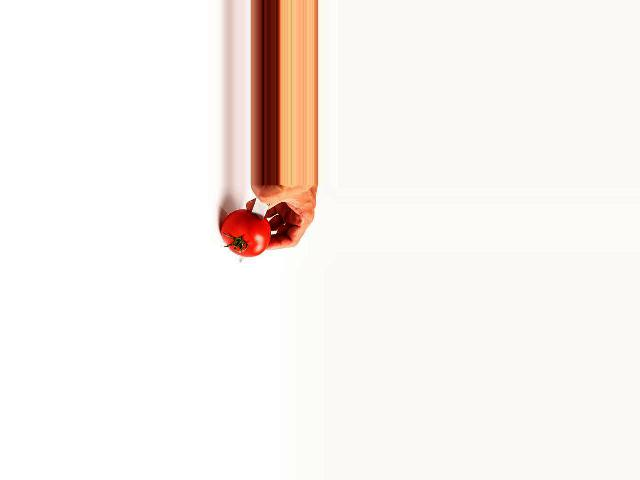tomato: (221, 209, 271, 256)
